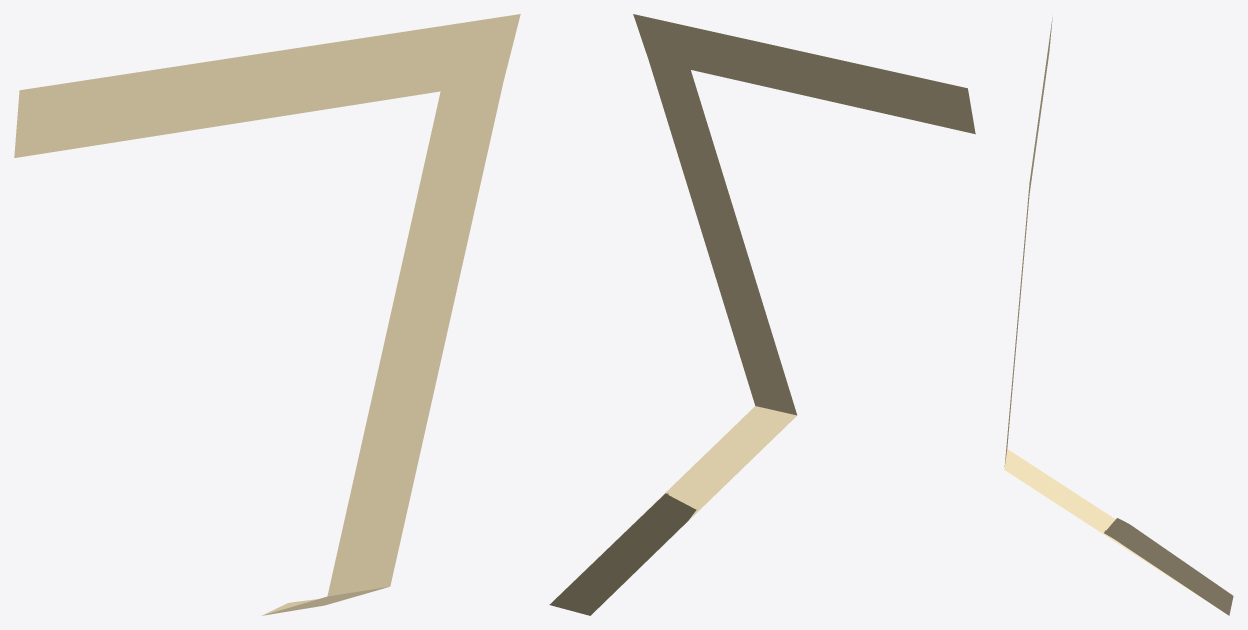
Rendered from pbp_paper01anim03.glb.
The picture shows the model from 3 angles, left to right: view 1: azimuth 30°, elevation 25°; view 2: azimuth 150°, elevation 25°; view 3: azimuth 270°, elevation 25°; orthographic projection. The views are drawn at different scales.
Parts seen in each view (by area): view 1: paper01anim03; view 2: paper01anim03; view 3: paper01anim03.
Boxes of the visible parts, x1=… form: paper01anim03: x1=14, y1=14, x2=520, y2=615; paper01anim03: x1=549, y1=14, x2=975, y2=615; paper01anim03: x1=1004, y1=17, x2=1233, y2=615.
Bounding box in the file's own units: 0.9781 × 1.38 × 0.6178.
